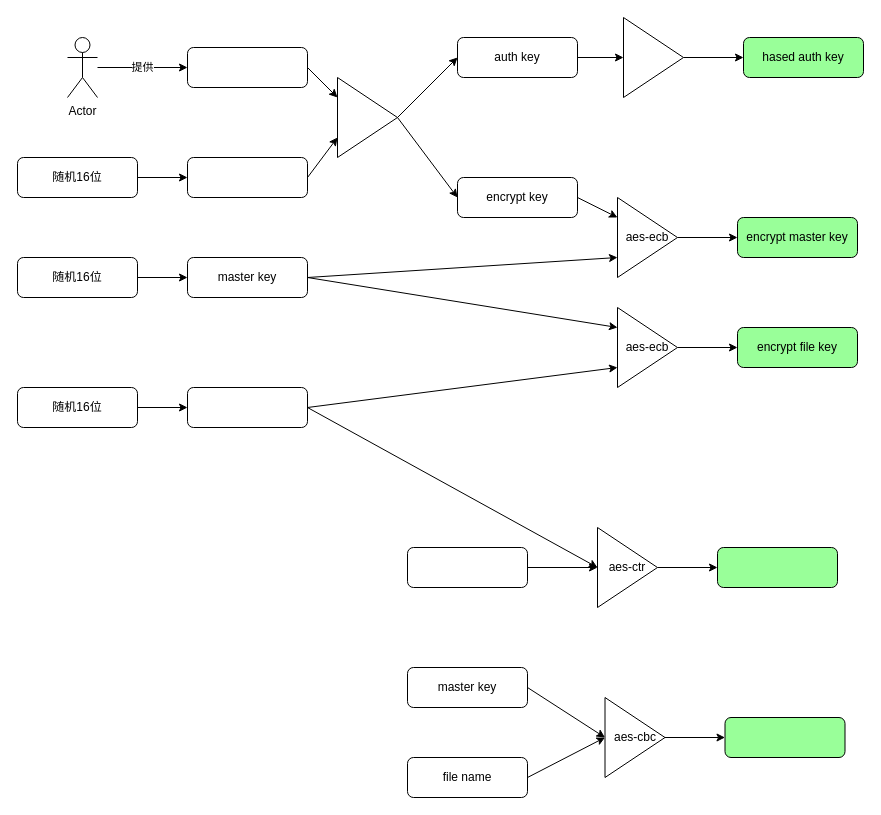
The diagram is 881 pixels wide and 815 high, and some of its shapes have lost their labels. The shapes that lost their labels are listed below. From the top down, each one's centre as x and y in pixels, then its label:
At point 247,67: "password".
At point 653,57: "sha256".
At point 367,117: "pbkdf2".
At point 247,177: "salt".
At point 247,407: "random file key".
At point 467,567: "file content".
At point 777,567: "encrypt file content".
At point 784,737: "encrypt file name".
